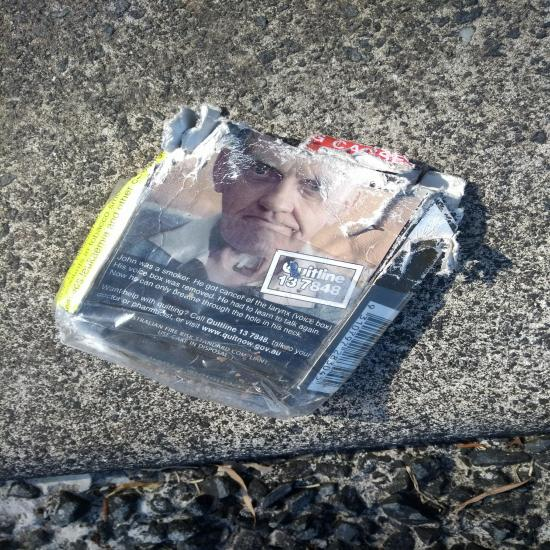Other carton: (55, 104, 465, 409)
Plastic film: (51, 178, 414, 421)
